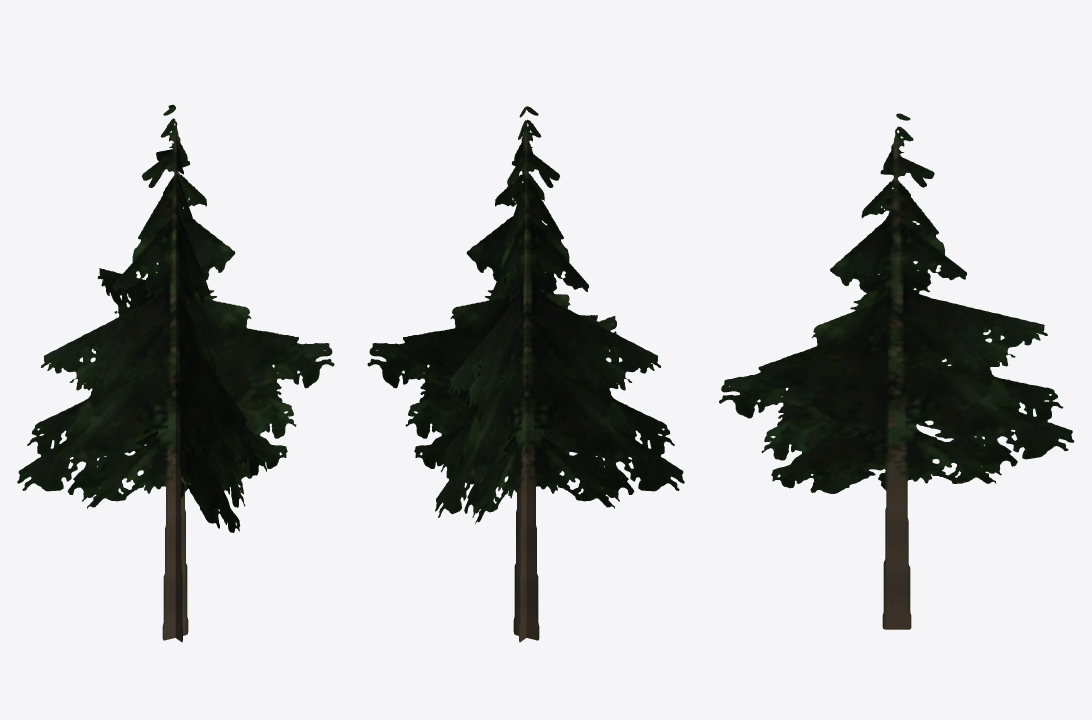
Rendered from ever_pinetree_small_l3.fbx.
3 views of the same model, side by side, from view 1: azimuth 30°, elevation 25°; view 2: azimuth 150°, elevation 25°; view 3: azimuth 270°, elevation 25° (orthographic). The views are drawn at different scales.
Visible parts, largest first — view 1: mesh_node; view 2: mesh_node; view 3: mesh_node.
Boxes of the visible parts, box(x1,y1,x2,y2) form: mesh_node: box(17, 104, 334, 642); mesh_node: box(367, 106, 684, 642); mesh_node: box(719, 113, 1074, 629).
Size of the model in its own units: 6.2 by 10.21 by 6.2.
1 material, 1 textured.
